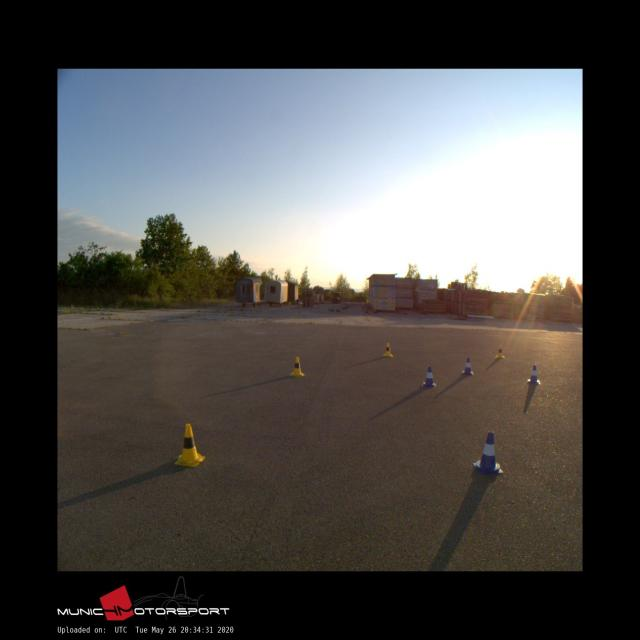blue_cone: (472, 430, 502, 473), (422, 366, 436, 387), (527, 364, 540, 384), (462, 356, 473, 375)
yellow_cone: (174, 422, 205, 467), (289, 356, 304, 375), (382, 342, 392, 357), (496, 344, 504, 358)
